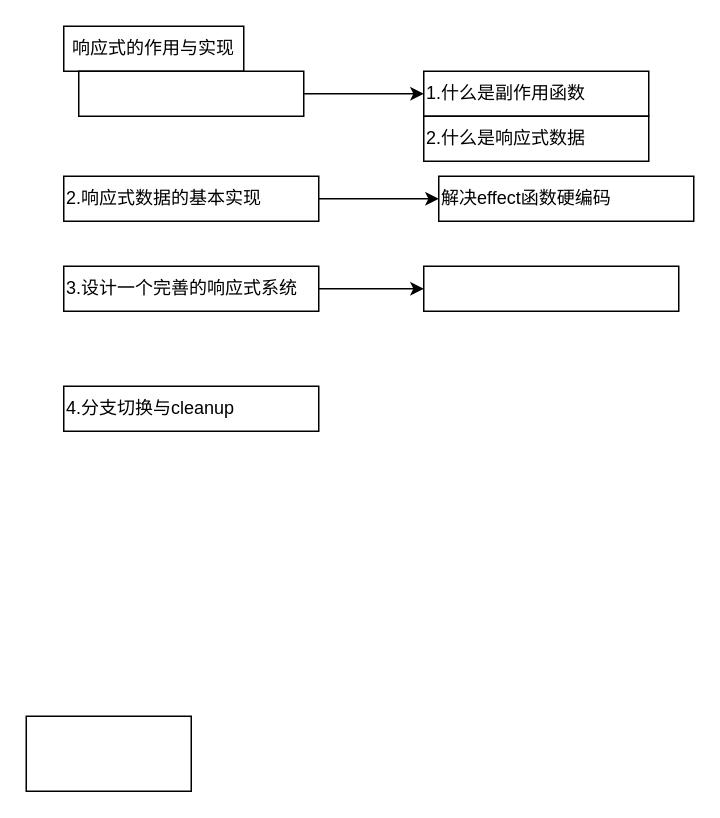
Some shapes in this 720 by 818 pixel diagram are drawn without their labels. The shapes that lost their labels are listed below. From the top down, each one's box as (x1, y1, x2, y2) in pixels, then its label:
(77, 70, 304, 116): 1.响应式数据与副作用函数
(422, 265, 679, 311): 重新设计桶
(25, 715, 191, 791): target: {foo:1}
